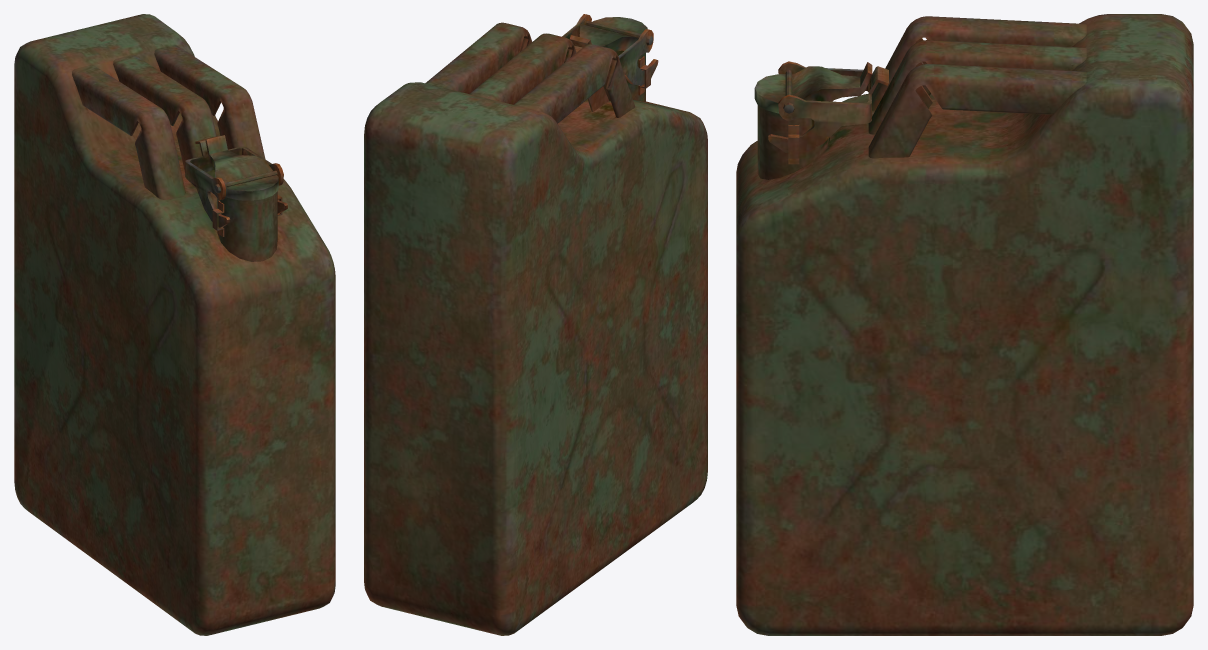
Rendered from soviet_fuel_canister.glb.
3 views of the same model, side by side, from view 1: azimuth 30°, elevation 25°; view 2: azimuth 150°, elevation 25°; view 3: azimuth 270°, elevation 25° (orthographic). The views are drawn at different scales.
Parts seen in each view (by area): view 1: soviet_fuel_canister; view 2: soviet_fuel_canister; view 3: soviet_fuel_canister.
Part boxes in pixels (x1,y1,x2,y2): soviet_fuel_canister: (14,14,335,635); soviet_fuel_canister: (364,14,707,635); soviet_fuel_canister: (736,14,1193,635).
Size of what is drawn, in the model's own units: 0.1538 by 0.5 by 0.3725.
1 material, 1 textured.
